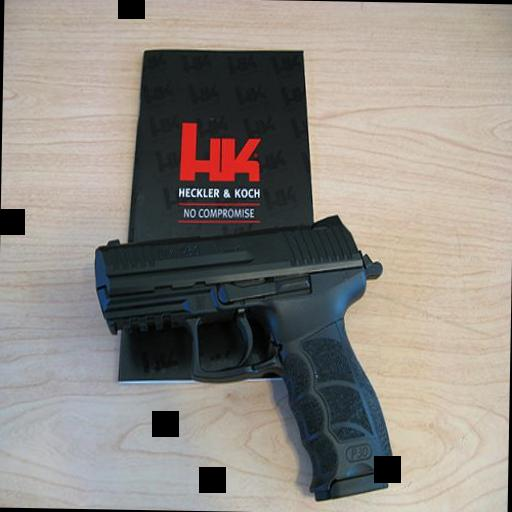Handgun: (85, 210, 410, 493)
